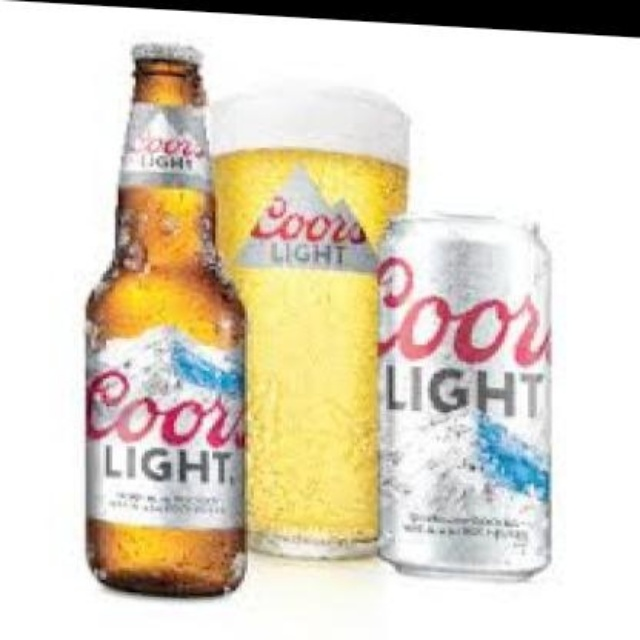trash: (212, 88, 408, 557), (86, 45, 245, 594), (377, 215, 549, 575)
